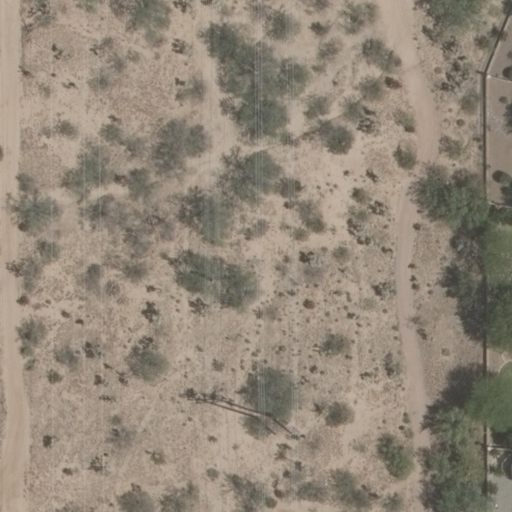TT: (255, 410, 305, 439)
